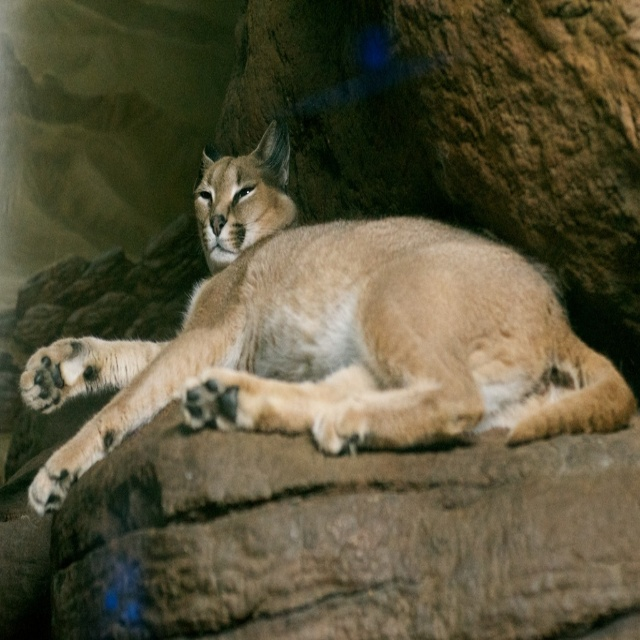Lynx: (17, 118, 635, 520)
